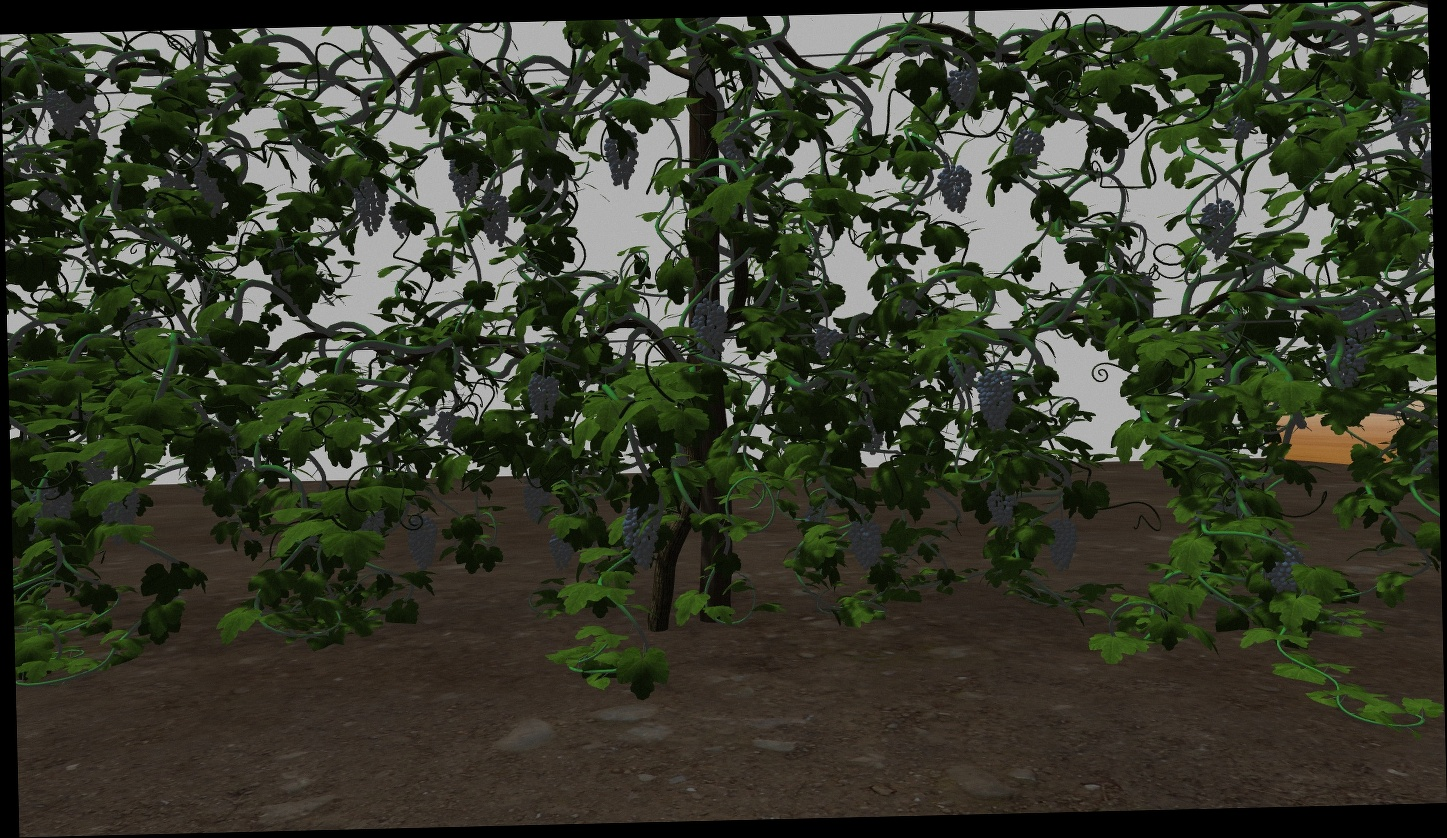grape: (975, 368, 1015, 433), (1198, 199, 1240, 260), (621, 500, 657, 571), (31, 481, 75, 539), (691, 297, 729, 364), (194, 151, 230, 219), (101, 489, 142, 546), (354, 175, 391, 237), (604, 129, 640, 191), (1390, 91, 1427, 148), (1325, 338, 1365, 389), (1265, 543, 1306, 592), (845, 520, 884, 570), (406, 514, 439, 571), (1045, 519, 1080, 572), (938, 164, 973, 216), (526, 371, 561, 423), (480, 189, 510, 248), (447, 157, 480, 208), (46, 90, 78, 141), (1339, 299, 1376, 340), (722, 121, 752, 170), (947, 67, 980, 111), (522, 473, 551, 523), (1010, 124, 1045, 163), (64, 79, 97, 117), (547, 530, 575, 574), (986, 487, 1013, 530), (814, 327, 842, 359), (435, 411, 463, 443), (1226, 117, 1254, 140)
